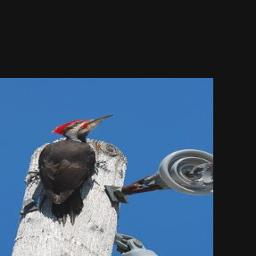Woodpecker: (20, 112, 120, 225)
